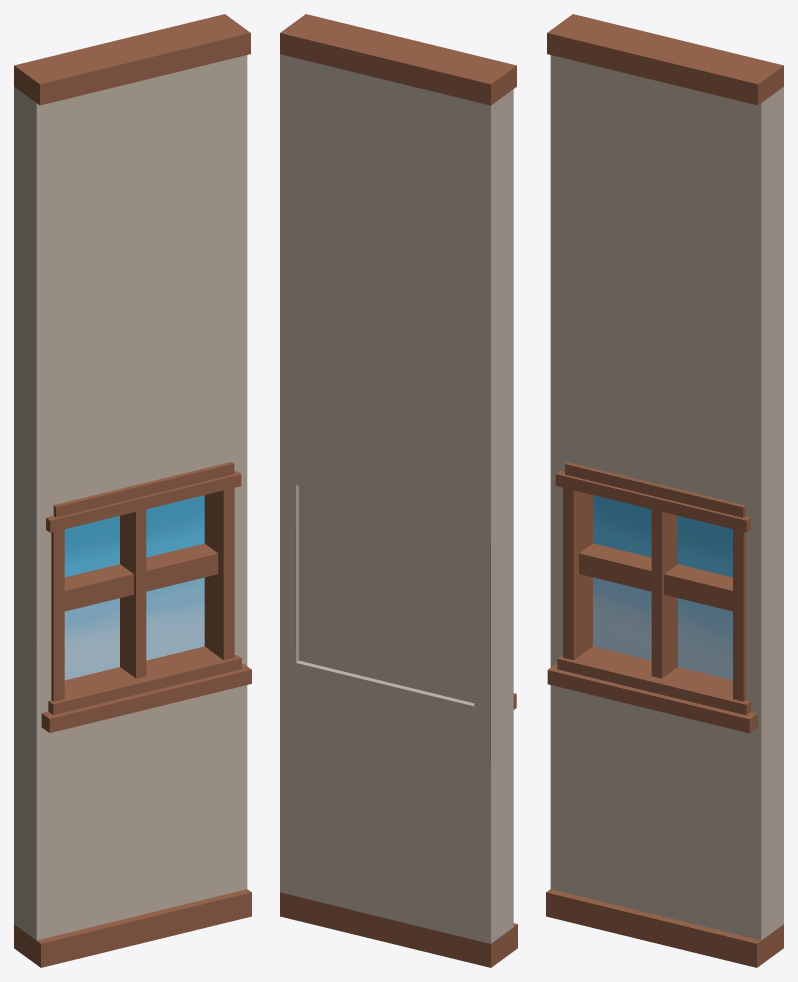
File: window.fbx
The picture shows the model from 3 angles, left to right: view 1: azimuth 30°, elevation 25°; view 2: azimuth 150°, elevation 25°; view 3: azimuth 330°, elevation 25°; orthographic projection.
Visible parts, largest first — view 1: window_taller; view 2: window_taller; view 3: window_taller.
Part boxes in pixels (x1,y1,x2,y2): window_taller: [14, 14, 251, 967]; window_taller: [280, 14, 517, 967]; window_taller: [546, 14, 783, 967].
Size of the model in its own units: 1 by 4 by 0.2507.
